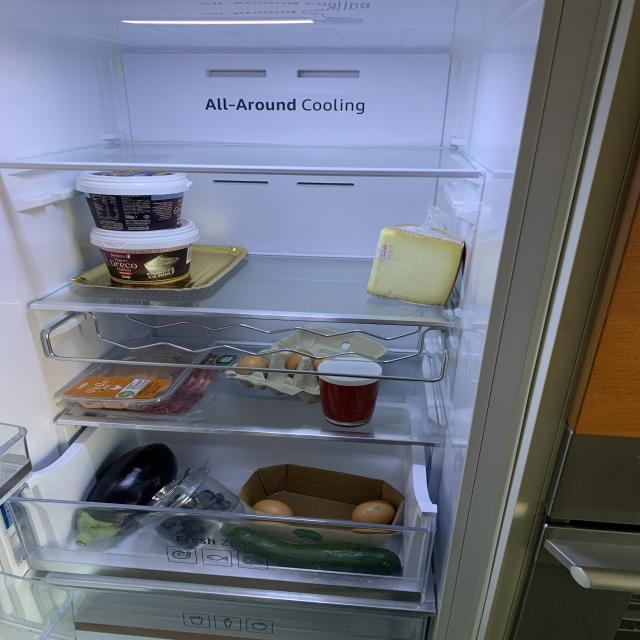aubergine: (75, 442, 178, 548)
blueberries: (160, 488, 232, 550)
chicken_breast: (82, 352, 177, 408)
courgettes: (223, 523, 401, 575)
eggs: (231, 350, 331, 378), (352, 501, 394, 523), (253, 500, 296, 519)
ham: (109, 352, 225, 416)
mid_seasoned_cheese: (366, 221, 466, 308)
tomato_sauce: (318, 376, 380, 421)
yoghurt: (86, 218, 200, 284), (76, 170, 188, 232)
